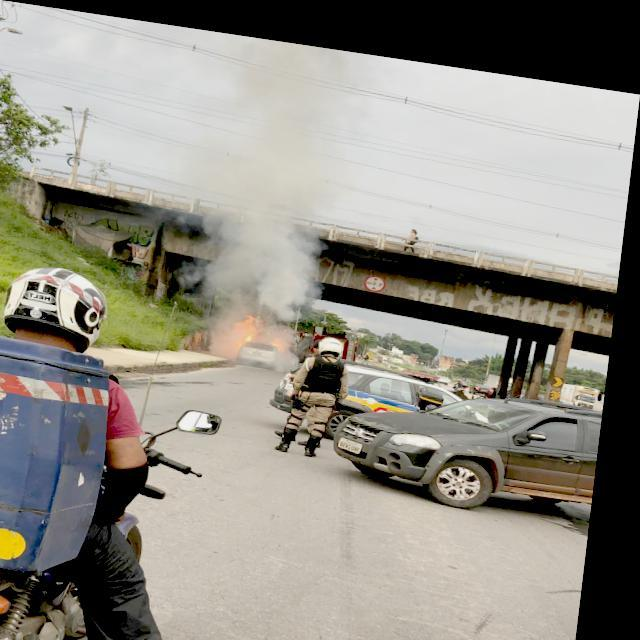Fire: (220, 306, 300, 358)
